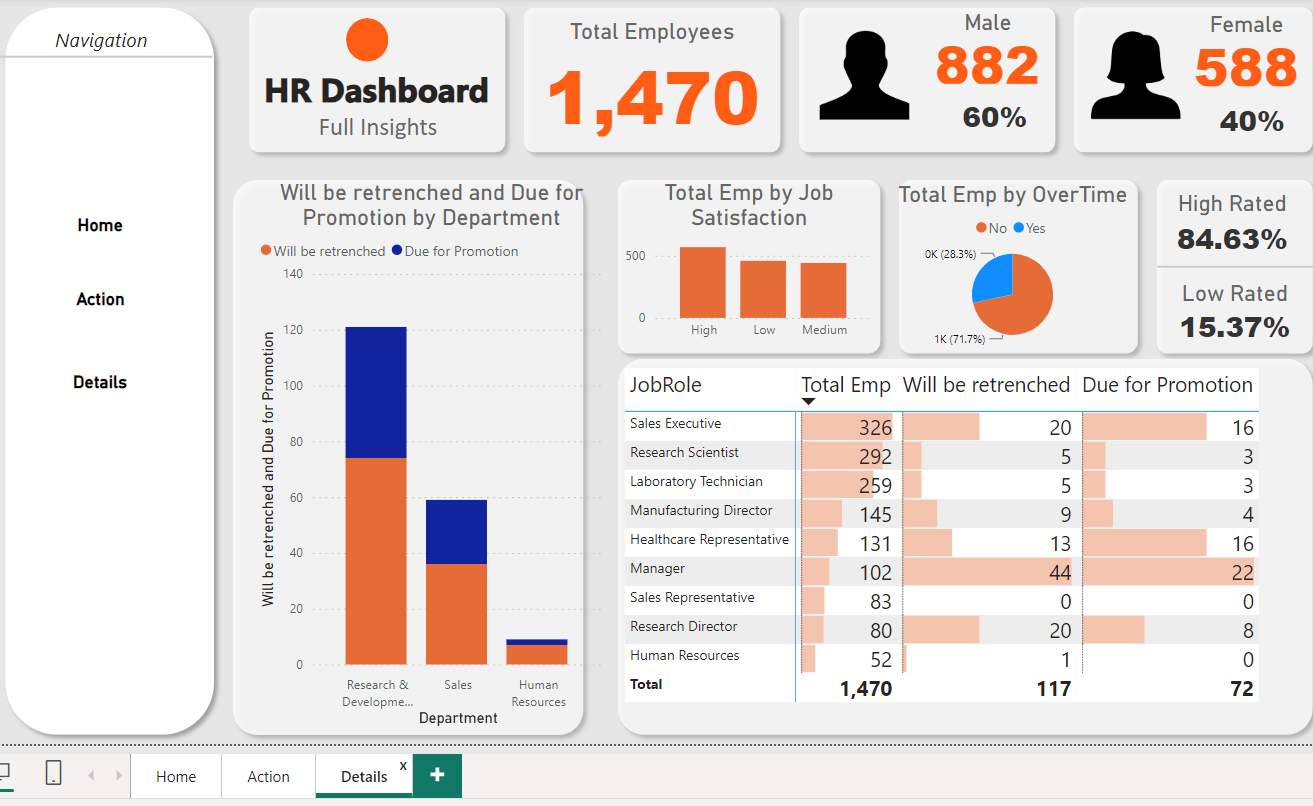

Layout of this report page (visuals, bound fields, positions):
{"tool":"powerbi","page":{"name":"Details","canvas":[1280,720],"ordinal":2},"visuals":[{"type":"shape","box":[0,0,219.5,720],"z":0},{"type":"shape","box":[500.5,0,265.3,158],"z":1000},{"type":"shape","box":[765.8,0,265.3,158],"z":2000},{"type":"shape","box":[1031.2,0,248.4,158],"z":3000},{"type":"shape","box":[235.2,0,265.3,158],"z":4000},{"type":"textbox","box":[291.9,103.7,153.2,42.2],"z":5000},{"type":"textbox","box":[249.6,61.5,235.2,53.1],"z":6000},{"type":"shape","box":[337.7,19.3,41,42.2],"z":7000},{"type":"card","title":"Total Employees","fields":{"Values":["All Measures.Total Emp"]},"box":[515,19.3,236.4,119.4],"z":8000},{"type":"card","title":"Male","fields":{"Values":["All Measures.Male"]},"box":[899.3,10.3,116.9,77.4],"z":9000},{"type":"card","title":"Male","fields":{"Values":["All Measures.% Male"]},"box":[910.6,88,106.1,55.5],"z":10000},{"type":"card","title":"Female","fields":{"Values":["All Measures.Female"]},"box":[1148,13.6,116.9,77.4],"z":11000},{"type":"card","title":"Male","fields":{"Values":["All Measures.% Female"]},"box":[1159.2,91.3,106.1,55.5],"z":12000},{"type":"image","box":[789.9,22.9,96.5,102.5],"z":13000},{"type":"image","box":[1051.7,24.1,96.5,101.3],"z":14000},{"type":"shape","box":[219.8,167,356.2,553.7],"z":15000},{"type":"columnChart","fields":{"Category":["HR Analytics Data.Department"],"Y":["All Measures.Will be retrenched","All Measures.Due for Promotion"]},"box":[249.6,174.9,341.3,533.1],"z":16000},{"type":"shape","box":[591,166.4,271.4,185.7],"z":17000},{"type":"shape","box":[862.3,166.4,248.4,185.7],"z":18000},{"type":"shape","box":[1110.8,166.4,168.8,185.7],"z":19000},{"type":"shape","box":[591,338.9,688.6,381.1],"z":20000},{"type":"columnChart","fields":{"Category":["HR Analytics Data.Job Satisfaction"],"Y":["All Measures.Total Emp"]},"box":[601.8,174.9,249.6,164],"z":21000},{"type":"pieChart","fields":{"Category":["HR Analytics Data.OverTime"],"Y":["All Measures.Total Emp"]},"box":[862.3,177.3,237.6,164],"z":22000},{"type":"pivotTable","fields":{"Rows":["HR Analytics Data.JobRole"],"Values":["All Measures.Total Emp","All Measures.Will be retrenched","All Measures.Due for Promotion"]},"box":[601.8,352.2,663.3,344.9],"z":23000},{"type":"card","title":"High Rated","fields":{"Values":["All Measures.% High Rated"]},"box":[1120.4,185.7,144.7,71.2],"z":24000},{"type":"shape","box":[1120.4,236.4,159.2,45.8],"z":25000},{"type":"card","title":"Low Rated","fields":{"Values":["All Measures.% Low Rated"]},"box":[1122.8,272.6,144.7,66.3],"z":26000},{"type":"textbox","box":[51.9,22.9,115.8,38.6],"z":27000},{"type":"shape","box":[0,33.8,208.6,45.8],"z":28000},{"type":"actionButton","title":"Home","box":[86.7,208.4,90.4,50.6],"z":29000},{"type":"actionButton","title":"Action","box":[86.7,279.5,90.4,61.4],"z":30000},{"type":"actionButton","title":"Details","box":[86.7,360.2,90.4,39.8],"z":31000},{"type":"shape","box":[57.8,208.4,20.5,19.3],"z":32000},{"type":"shape","box":[57.8,279.5,20.5,19.3],"z":33000},{"type":"shape","box":[57.8,360.2,20.5,19.3],"z":34000}]}

Visuals, with their boxes on the page's 1280x720 design canvas (x1, y1, x2, y2). These are canvas units, not pixel positions in the 1313x806 screenshot, which may show the page scaled, cropped or inside an application window:
shape: [x1=0, y1=0, x2=220, y2=720]
shape: [x1=500, y1=0, x2=766, y2=158]
shape: [x1=766, y1=0, x2=1031, y2=158]
shape: [x1=1031, y1=0, x2=1280, y2=158]
shape: [x1=235, y1=0, x2=500, y2=158]
textbox: [x1=292, y1=104, x2=445, y2=146]
textbox: [x1=250, y1=62, x2=485, y2=115]
shape: [x1=338, y1=19, x2=379, y2=62]
"Total Employees" card: [x1=515, y1=19, x2=751, y2=139]
"Male" card: [x1=899, y1=10, x2=1016, y2=88]
"Male" card: [x1=911, y1=88, x2=1017, y2=144]
"Female" card: [x1=1148, y1=14, x2=1265, y2=91]
"Male" card: [x1=1159, y1=91, x2=1265, y2=147]
image: [x1=790, y1=23, x2=886, y2=125]
image: [x1=1052, y1=24, x2=1148, y2=125]
shape: [x1=220, y1=167, x2=576, y2=721]
columnChart - HR Analytics Data.Department x All Measures.Will be retrenched: [x1=250, y1=175, x2=591, y2=708]
shape: [x1=591, y1=166, x2=862, y2=352]
shape: [x1=862, y1=166, x2=1111, y2=352]
shape: [x1=1111, y1=166, x2=1280, y2=352]
shape: [x1=591, y1=339, x2=1280, y2=720]
columnChart - HR Analytics Data.Job Satisfaction x All Measures.Total Emp: [x1=602, y1=175, x2=851, y2=339]
pieChart - HR Analytics Data.OverTime x All Measures.Total Emp: [x1=862, y1=177, x2=1100, y2=341]
pivotTable - HR Analytics Data.JobRole x All Measures.Total Emp: [x1=602, y1=352, x2=1265, y2=697]
"High Rated" card: [x1=1120, y1=186, x2=1265, y2=257]
shape: [x1=1120, y1=236, x2=1280, y2=282]
"Low Rated" card: [x1=1123, y1=273, x2=1268, y2=339]
textbox: [x1=52, y1=23, x2=168, y2=62]
shape: [x1=0, y1=34, x2=209, y2=80]
"Home" actionButton: [x1=87, y1=208, x2=177, y2=259]
"Action" actionButton: [x1=87, y1=280, x2=177, y2=341]
"Details" actionButton: [x1=87, y1=360, x2=177, y2=400]
shape: [x1=58, y1=208, x2=78, y2=228]
shape: [x1=58, y1=280, x2=78, y2=299]
shape: [x1=58, y1=360, x2=78, y2=380]
